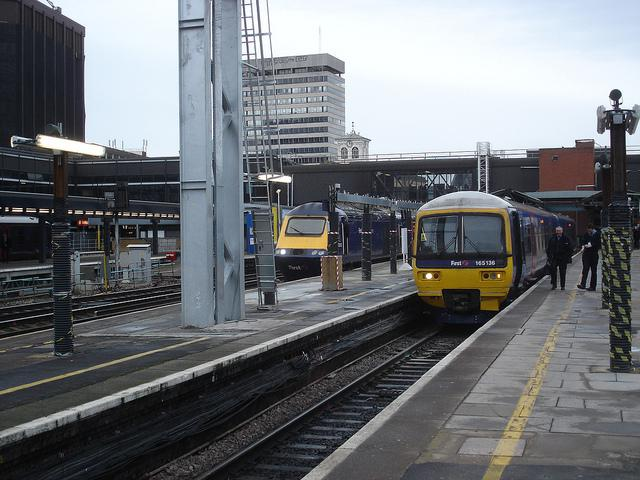Train: (412, 190, 581, 323), (275, 200, 395, 277)
